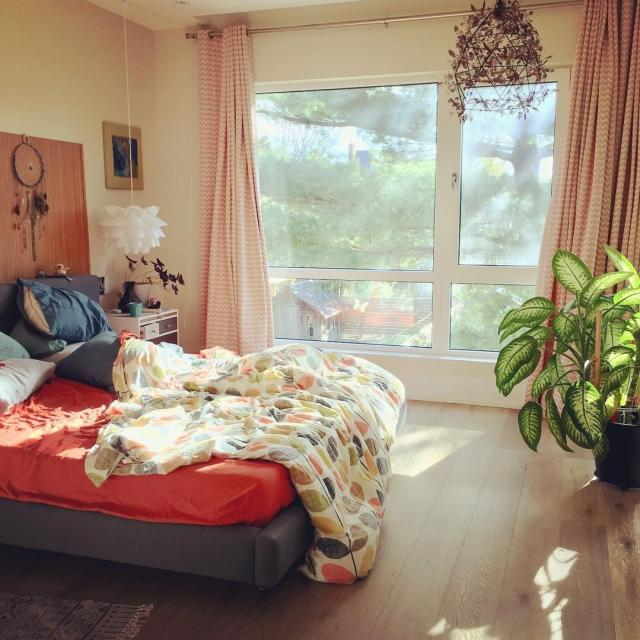bed: (0, 245, 371, 574)
